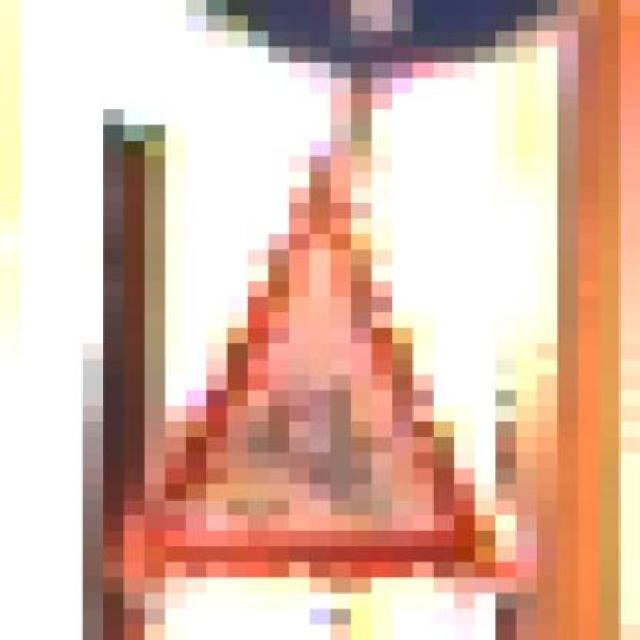CYCLE ROUTE AHEAD WARNING: (103, 125, 537, 609)
